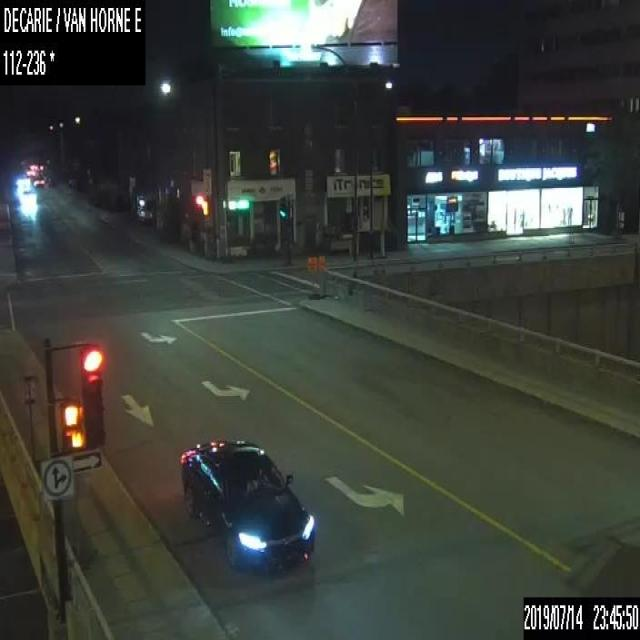construction: (21, 371, 43, 471), (306, 255, 316, 298), (318, 255, 327, 298)
vehicle: (178, 436, 318, 568), (136, 189, 154, 222), (20, 189, 36, 204), (32, 176, 43, 187), (29, 162, 37, 170), (26, 168, 34, 175)
